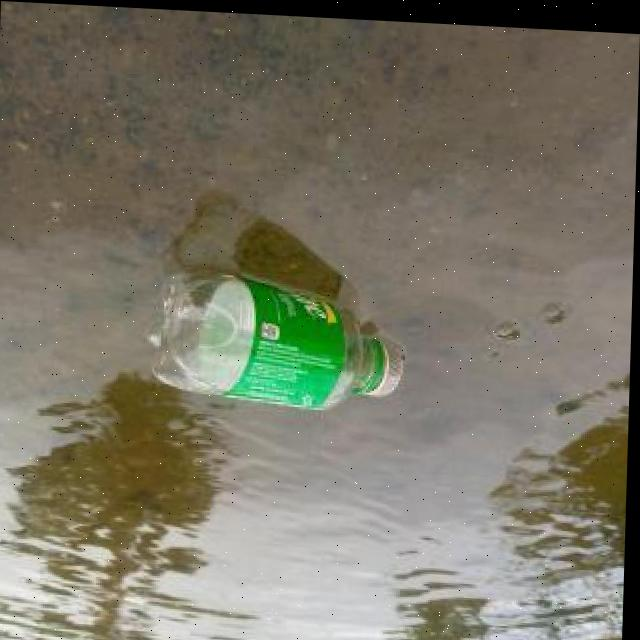bottle: (145, 264, 408, 411)
